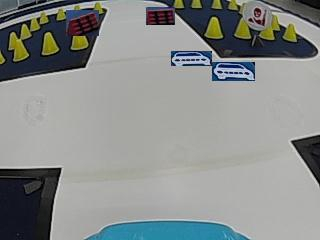evil: (242, 1, 271, 30)
